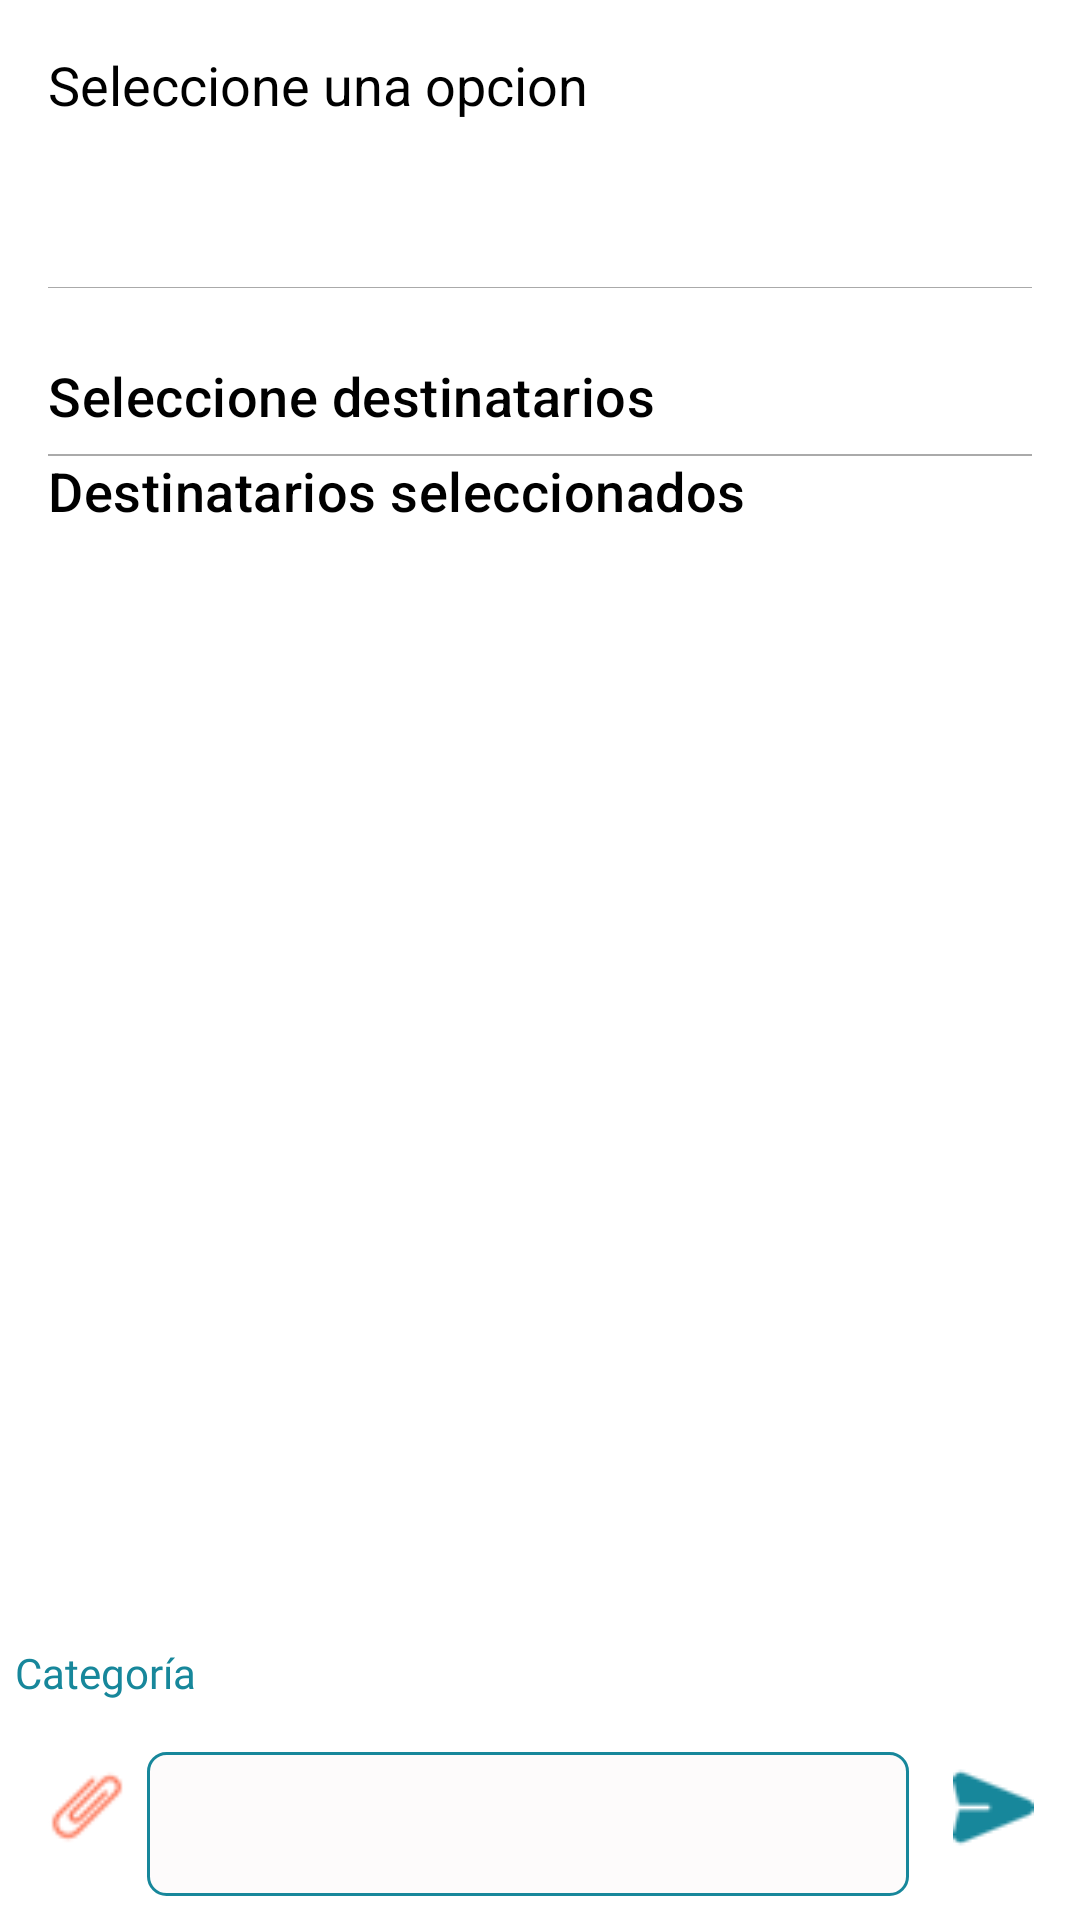

Named icons in this screenshot (1080 x 1920) and their bounding boxes, (x1, y1, x2, y2):
Adjuntar archivo: (52, 1774, 122, 1840)
Enviar mensaje: (953, 1770, 1034, 1845)
